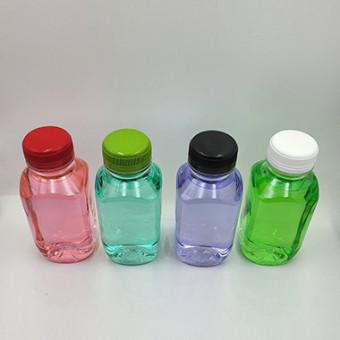plastic_bottle: (240, 121, 325, 270), (15, 123, 100, 265), (167, 118, 243, 275), (91, 124, 167, 271)
